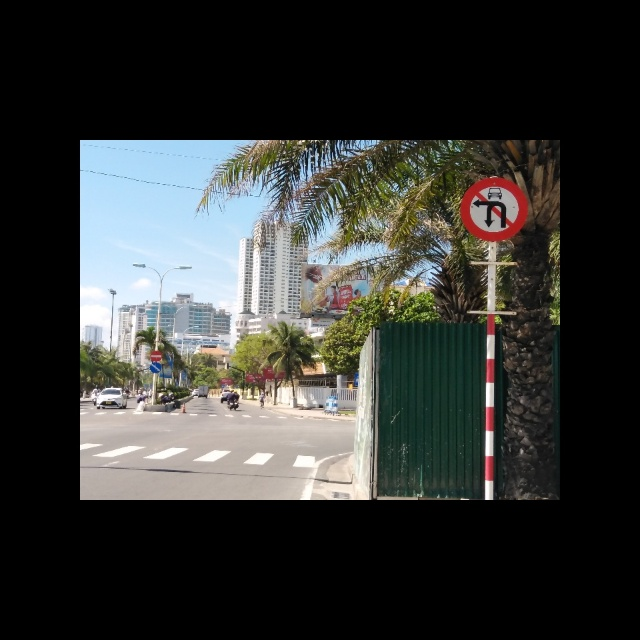Cấm xe ô tô quay đầu và rẽ trái: (461, 174, 528, 242)
